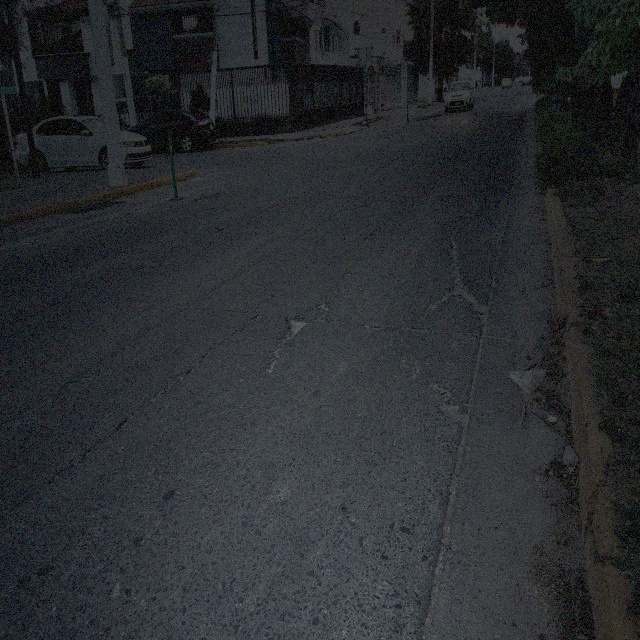pothole: (434, 382, 465, 424), (280, 313, 310, 345)
